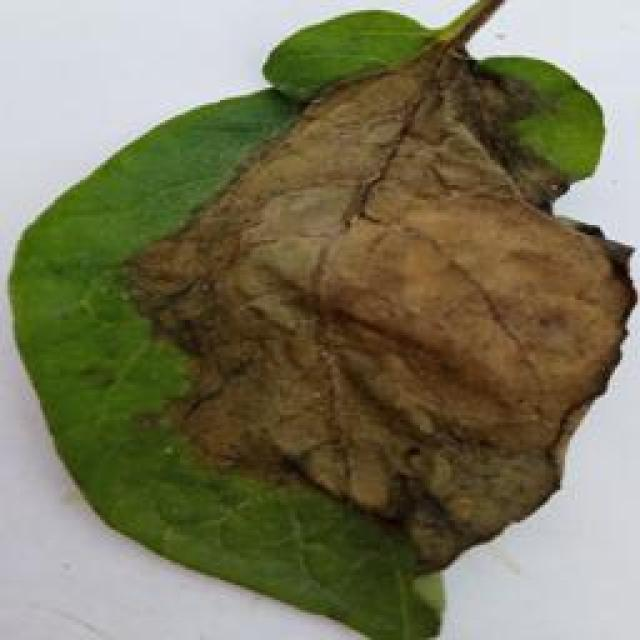Potato_Late_Blight: (5, 8, 640, 640)
